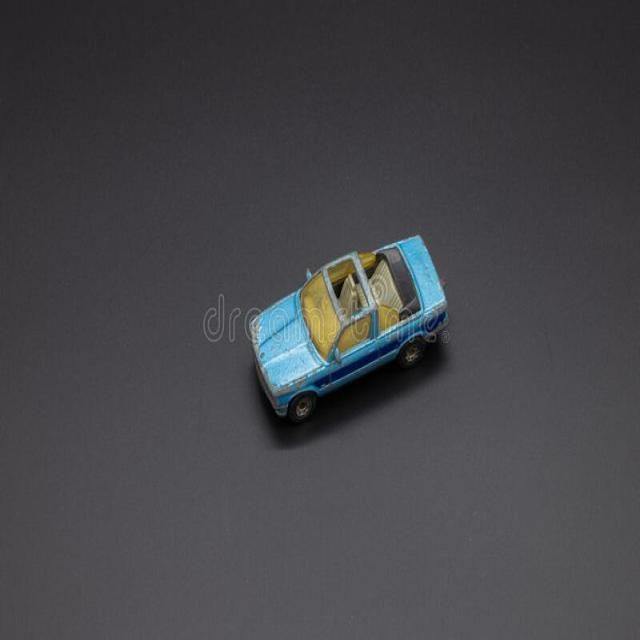Car: (248, 236, 450, 425)
